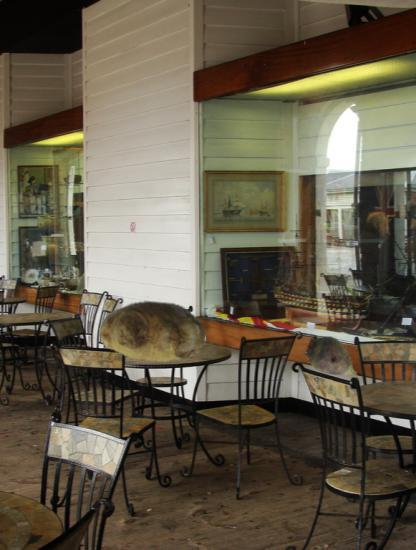Beetroot: (304, 328, 365, 389)
Ginger: (99, 278, 207, 386)
